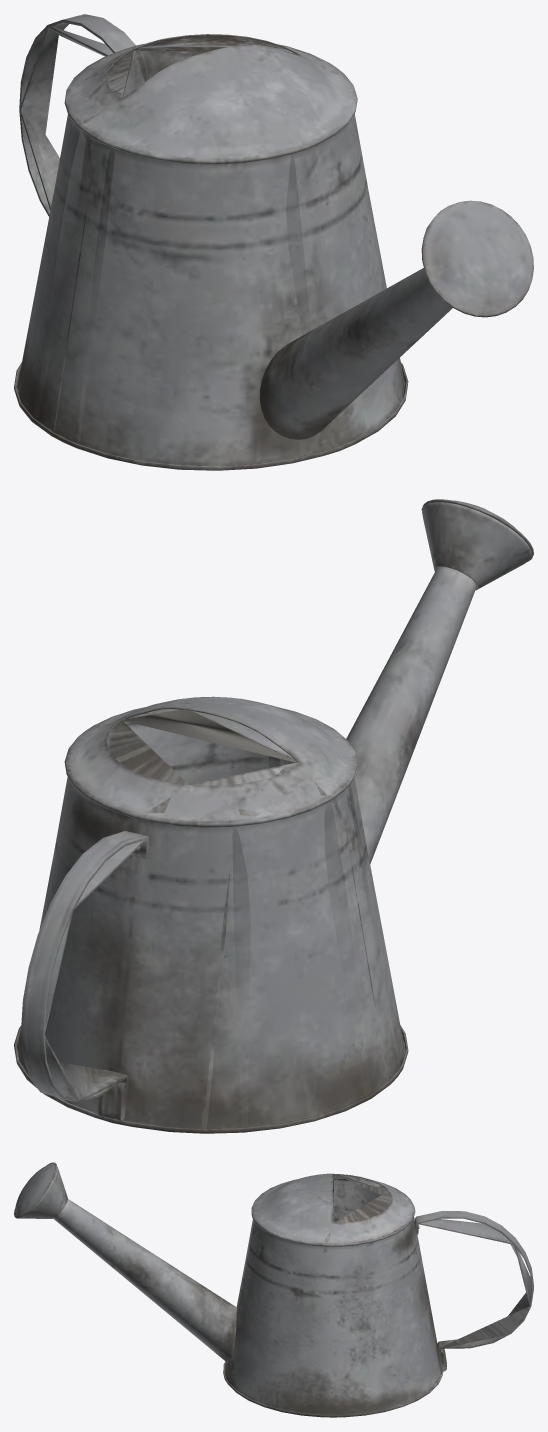
The model's file is watering_can_metal_01.glb.
The picture shows the model from 3 angles, top to bottom: view 1: azimuth 30°, elevation 25°; view 2: azimuth 150°, elevation 25°; view 3: azimuth 270°, elevation 25°; orthographic projection. The views are drawn at different scales.
Visible parts, largest first — view 1: watering_can_metal_01, watering_can_metal_01_lo; view 2: watering_can_metal_01, watering_can_metal_01_lo; view 3: watering_can_metal_01, watering_can_metal_01_lo.
Part boxes in pixels (x1,y1,x2,y2): watering_can_metal_01: (14, 14, 533, 470); watering_can_metal_01_lo: (16, 26, 531, 463); watering_can_metal_01: (14, 499, 533, 1133); watering_can_metal_01_lo: (17, 566, 477, 1129); watering_can_metal_01: (14, 1162, 533, 1417); watering_can_metal_01_lo: (14, 1173, 531, 1393).
Size of the model in its own units: 0.191 by 0.1968 by 0.4523.
1 material, 1 textured.
